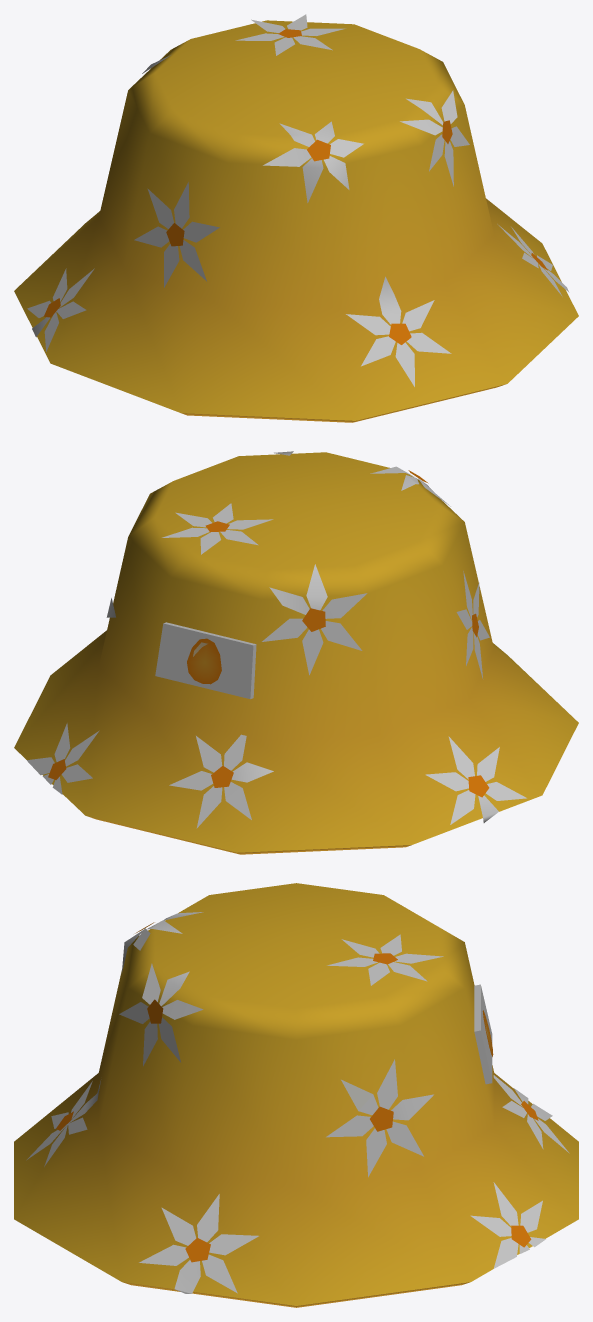
Rendered from hat_buckethat.glb.
The picture shows the model from 3 angles, top to bottom: view 1: azimuth 30°, elevation 25°; view 2: azimuth 150°, elevation 25°; view 3: azimuth 270°, elevation 25°; orthographic projection. The views are drawn at different scales.
Parts seen in each view (by area): view 1: hat_buckethat; view 2: hat_buckethat; view 3: hat_buckethat.
Boxes of the visible parts, x1=… form: hat_buckethat: x1=14, y1=14, x2=578, y2=422; hat_buckethat: x1=14, y1=451, x2=578, y2=854; hat_buckethat: x1=14, y1=883, x2=578, y2=1307.
Bounding box in the file's own units: 0.5149 × 0.2471 × 0.4897.
